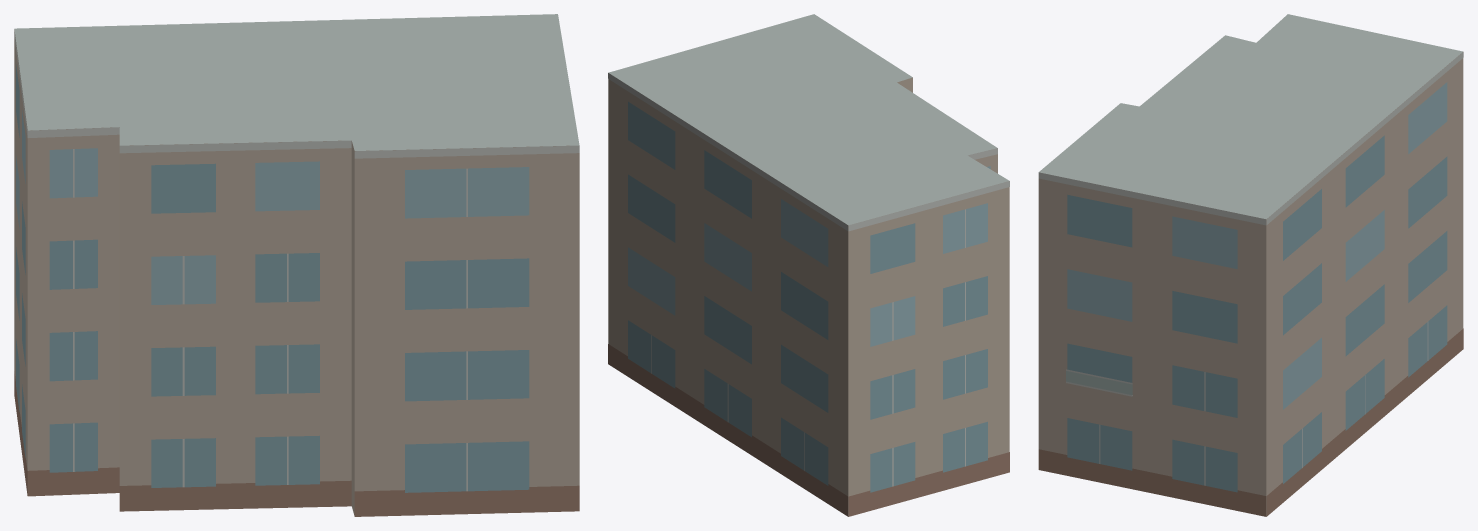
File: survey-upis-32894260.glb
3 views of the same model, side by side, from view 1: azimuth 30°, elevation 25°; view 2: azimuth 150°, elevation 25°; view 3: azimuth 270°, elevation 25° (orthographic). The views are drawn at different scales.
Visible parts, largest first — view 1: survey-upis-32894260.tmp; view 2: survey-upis-32894260.tmp; view 3: survey-upis-32894260.tmp.
Boxes of the visible parts, box(x1,y1,x2,y2) form: survey-upis-32894260.tmp: box(14, 14, 579, 516); survey-upis-32894260.tmp: box(608, 14, 1009, 516); survey-upis-32894260.tmp: box(1038, 14, 1463, 516).
Bounding box in the file's own units: 17.32 × 11.7 × 15.15.
